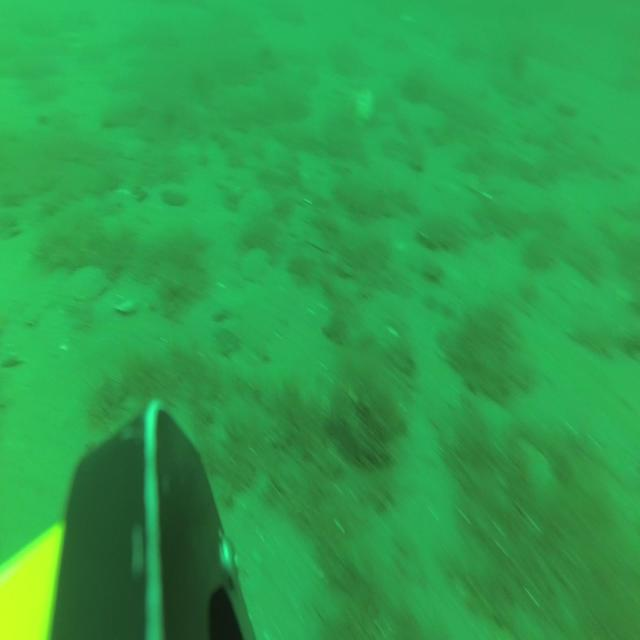scallop: (71, 263, 107, 305), (242, 246, 272, 284), (353, 90, 374, 128)
